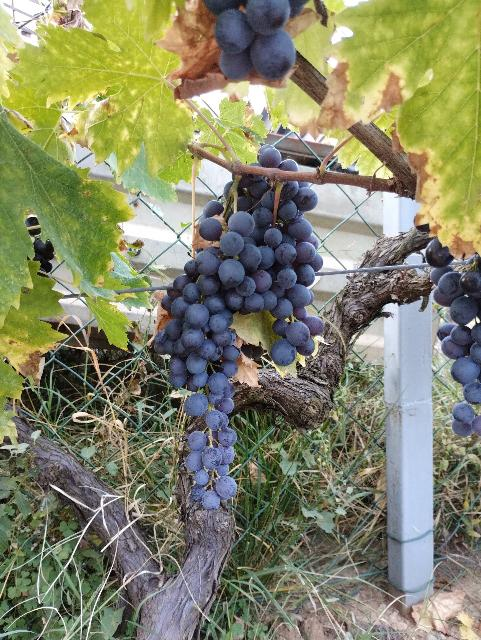grapes: (154, 201, 261, 510), (251, 181, 325, 361), (426, 238, 481, 438)
